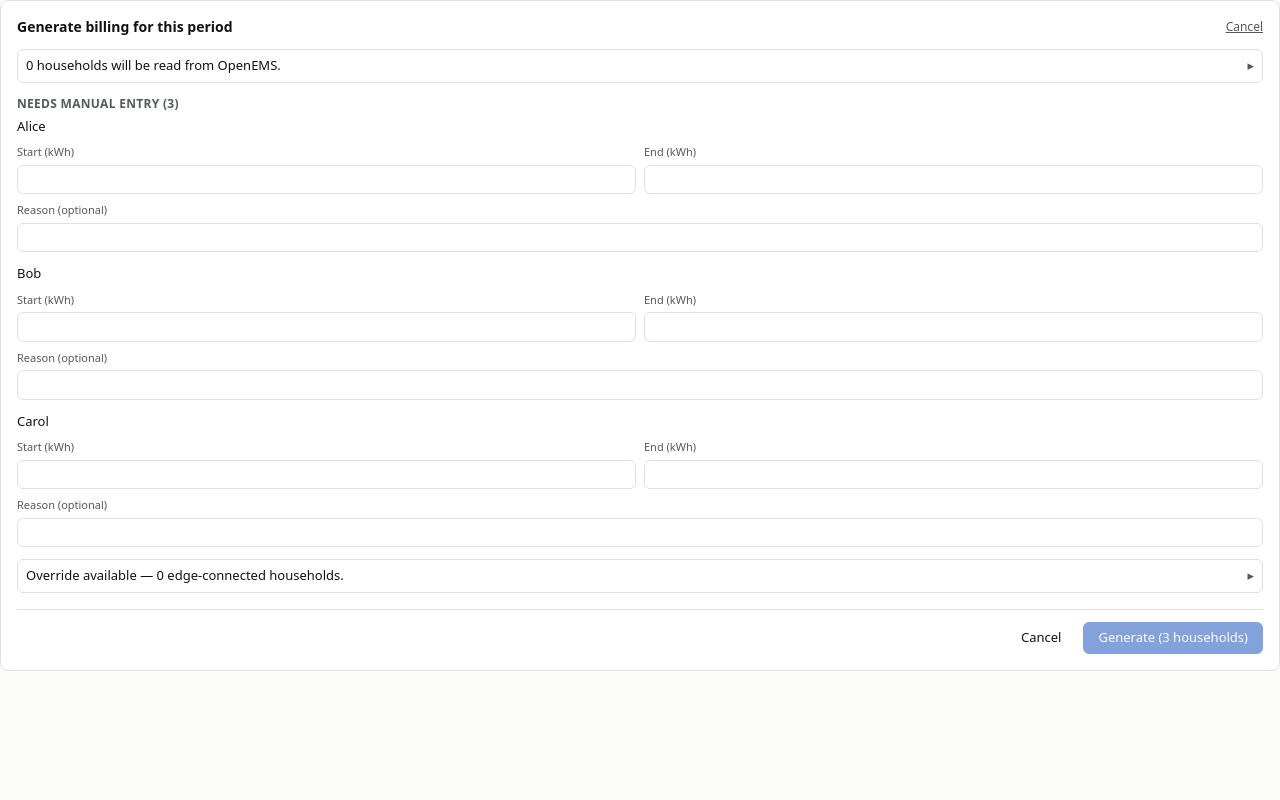
Test: PreflightPanel — partial-failure result view (BC3 polish #182) › full failure: panel stays open with destructive banner; heading reads 'Could not generate'
Type "100" into the number field named "Start kWh for Alice" at (326, 179), box left=17, top=164, right=636, bottom=194
Type "150" into the number field named "End kWh for Alice" at (954, 179), box left=644, top=164, right=1263, bottom=194
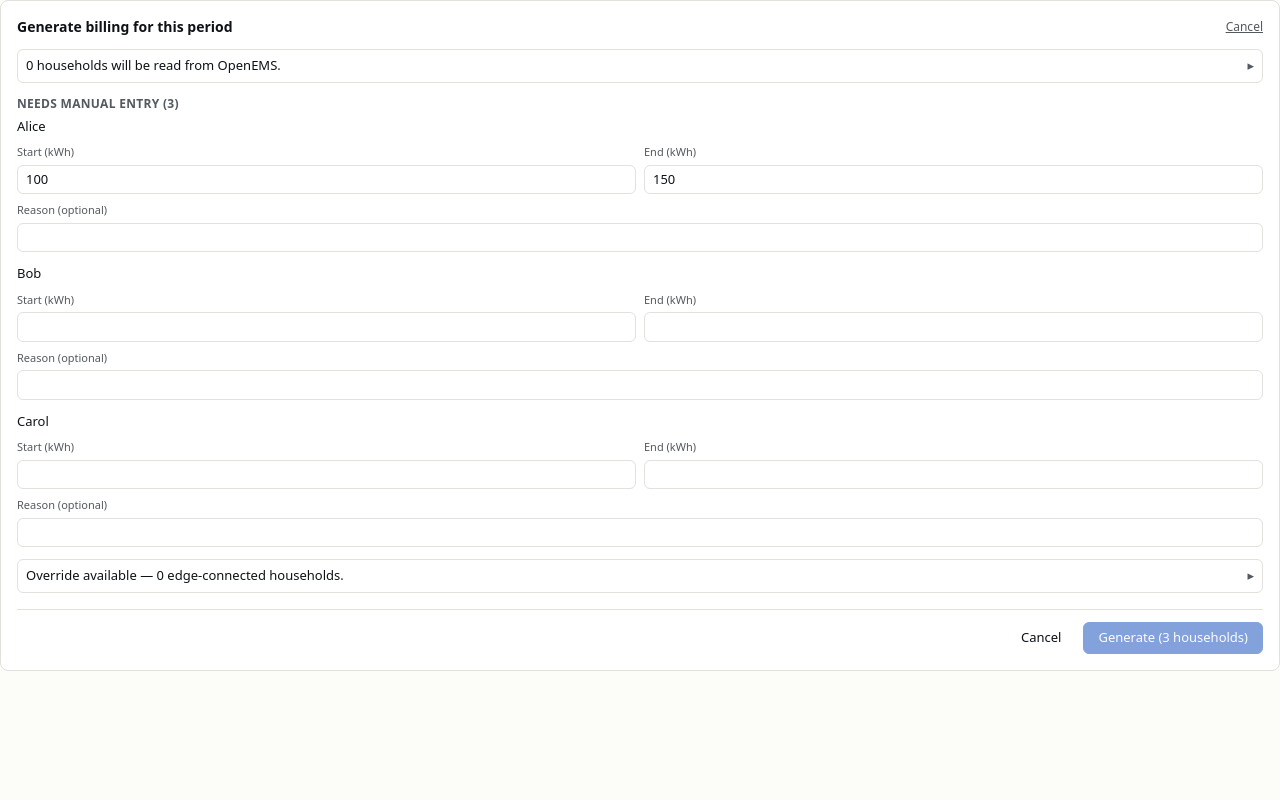
Type "200" into the number field named "Start kWh for Bob" at (326, 327), box left=17, top=312, right=636, bottom=342
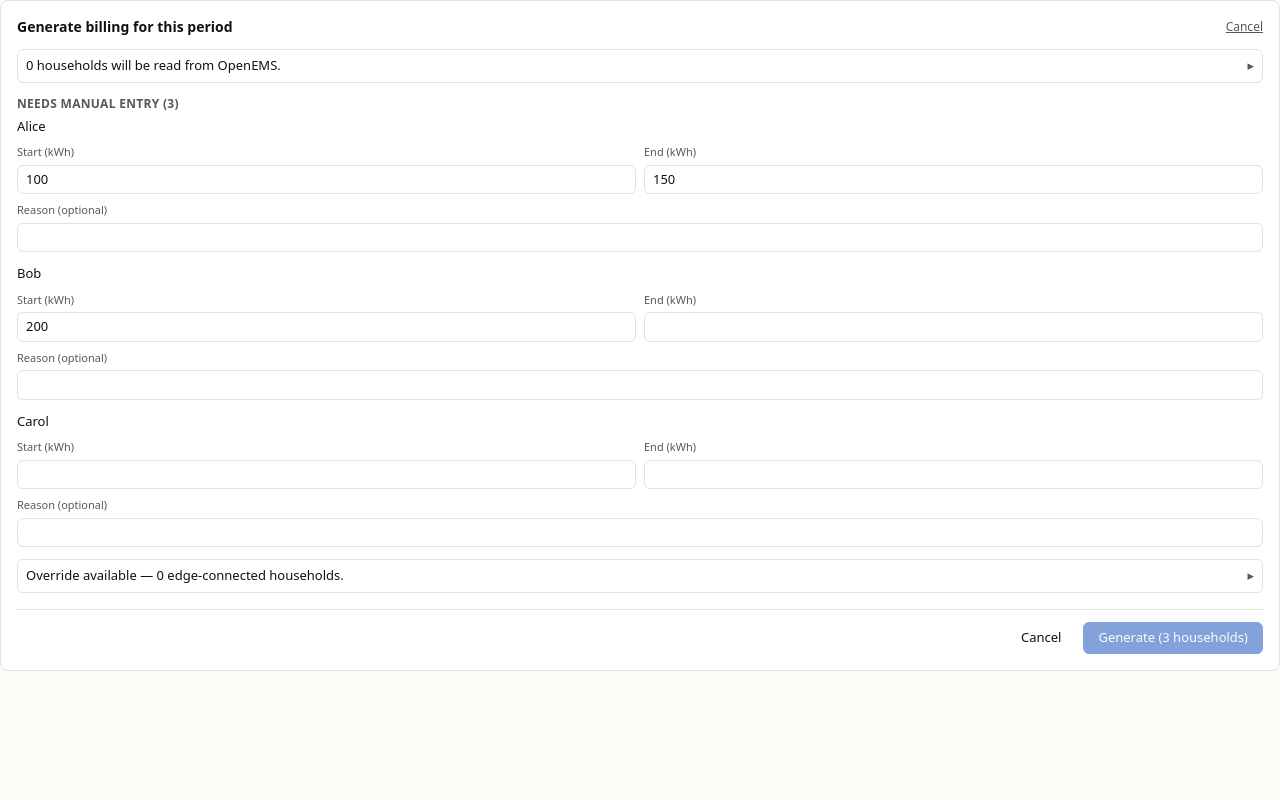
Type "250" into the number field named "End kWh for Bob" at (954, 327), box left=644, top=312, right=1263, bottom=342
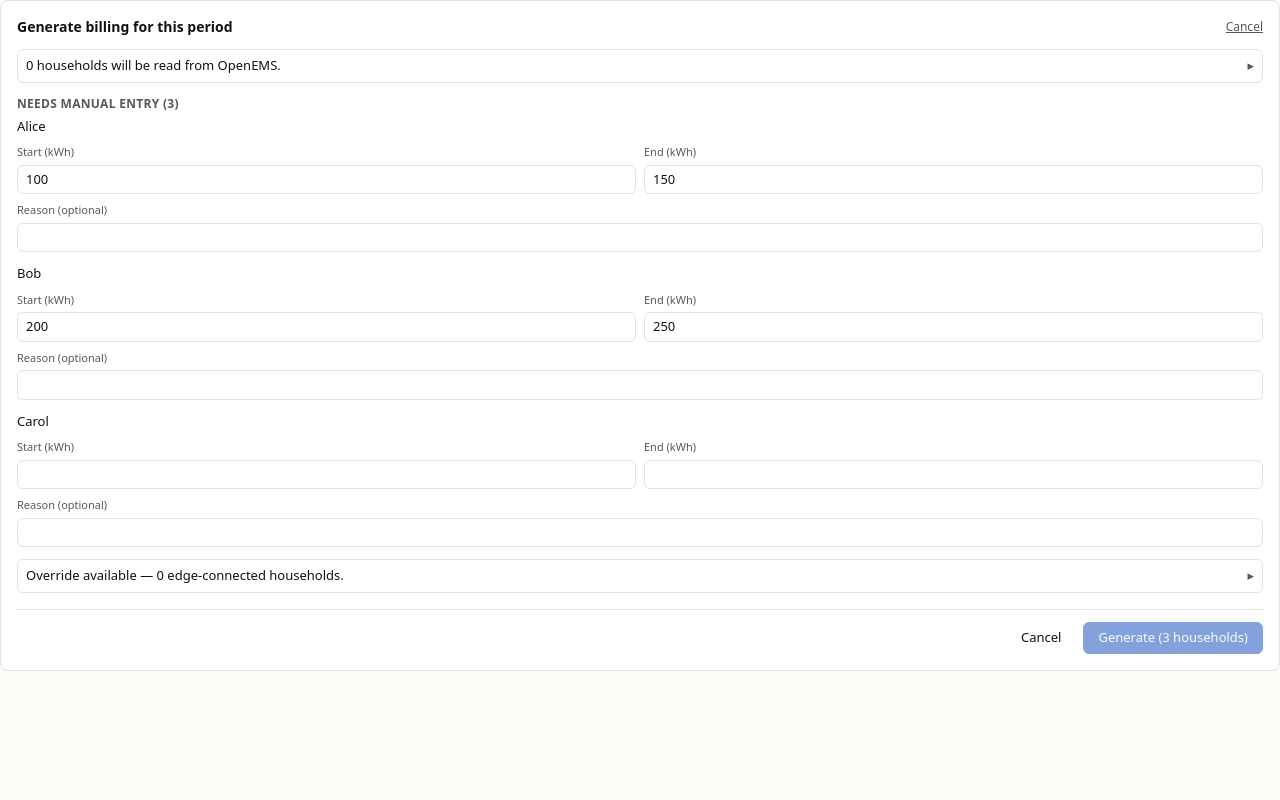
Type "300" into the number field named "Start kWh for Carol" at (326, 474), box left=17, top=460, right=636, bottom=489
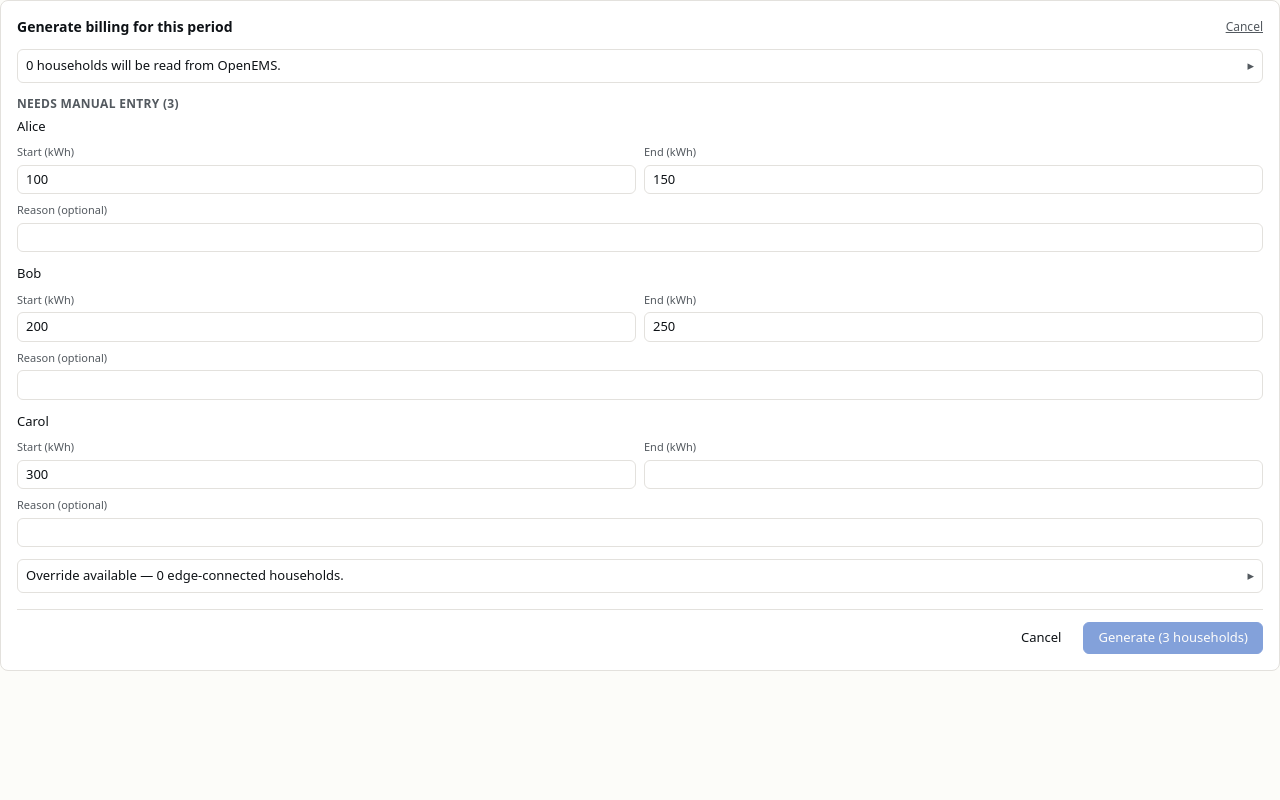
Type "350" into the number field named "End kWh for Carol" at (954, 474), box left=644, top=460, right=1263, bottom=489
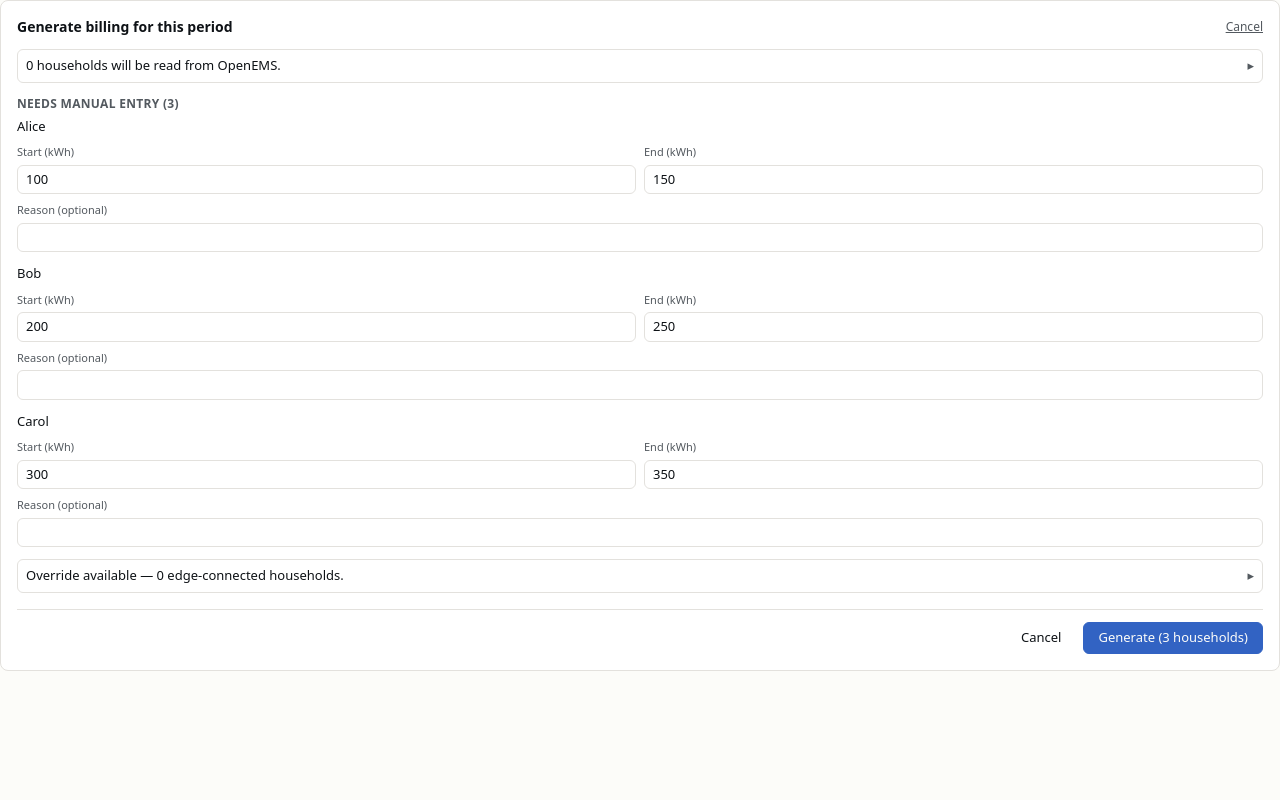
Click the button with test id "preflight-generate-button" at (1173, 638), box left=1083, top=622, right=1263, bottom=654
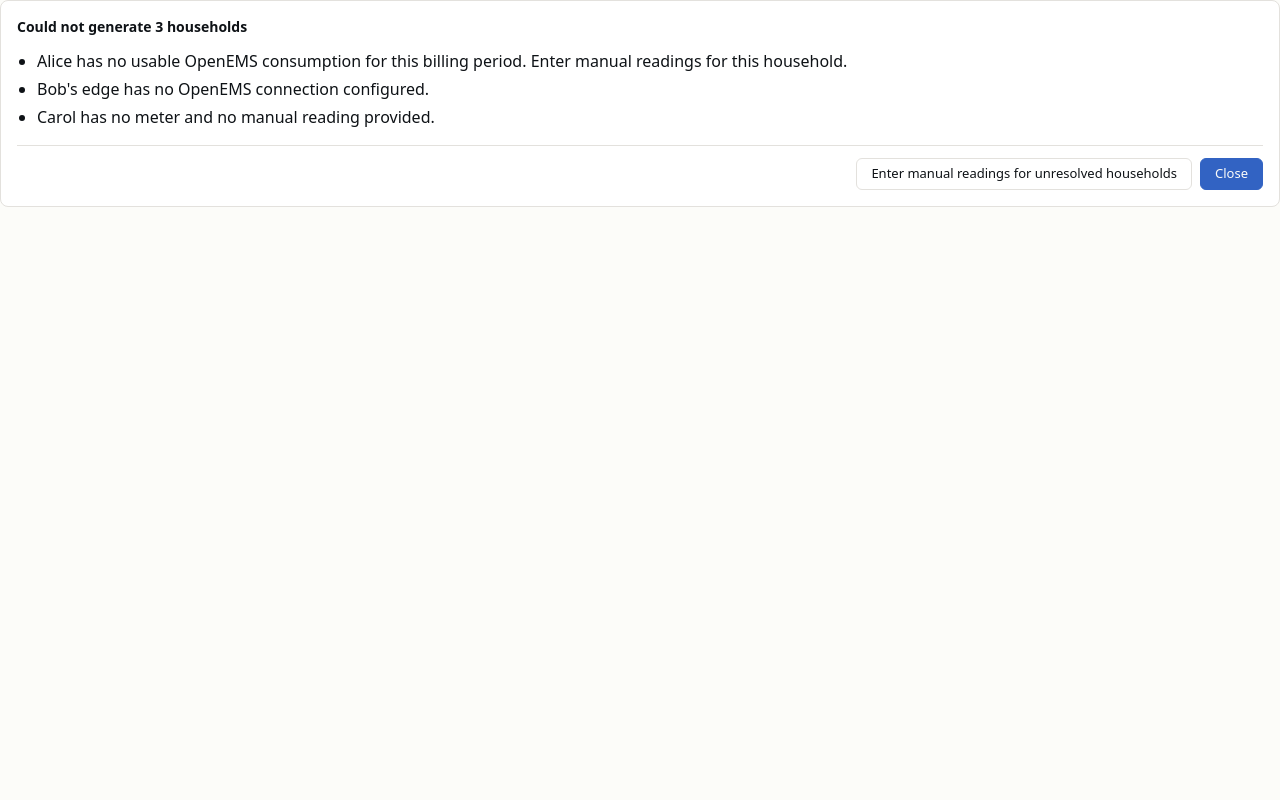
Expected: the element with test id "preflight-panel-result" is shown, left=0, top=0, right=1279, bottom=207
Expected: the text "Could not generate 3 households" is shown, left=17, top=17, right=247, bottom=37
Expected: the number of list items is 3, left=37, top=50, right=847, bottom=72; left=37, top=78, right=429, bottom=100; left=37, top=106, right=435, bottom=128
